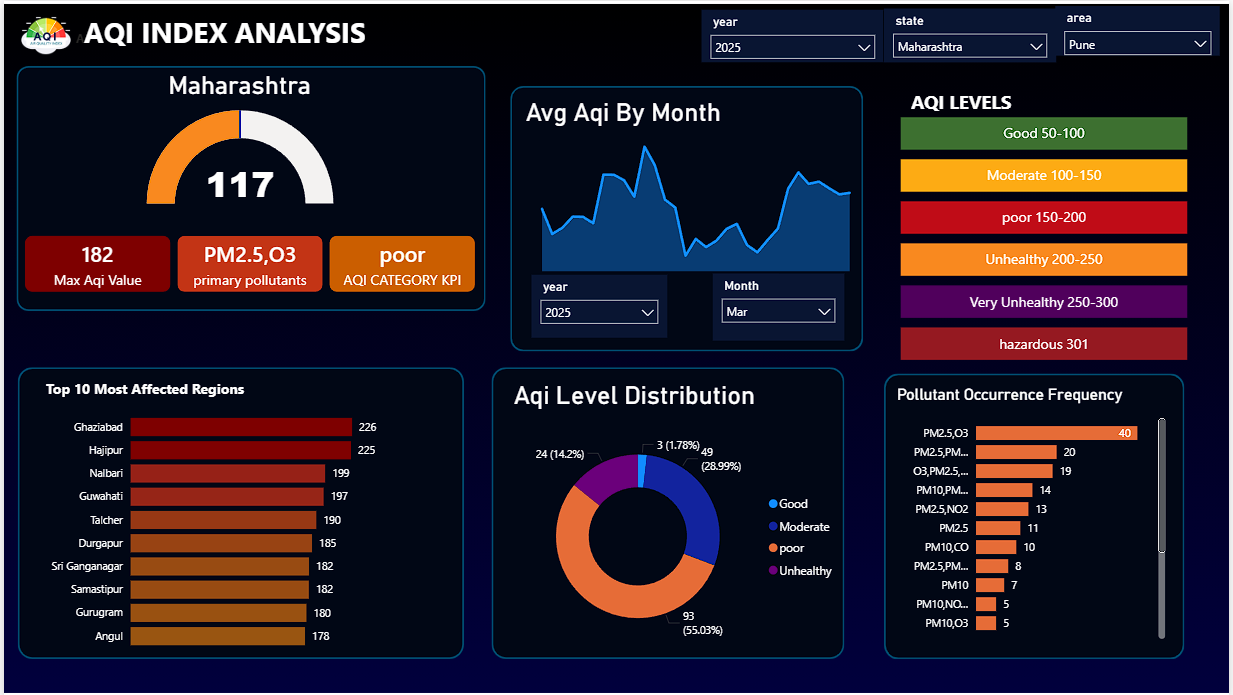

Layout of this report page (visuals, bound fields, positions):
{"tool":"powerbi","page":{"name":"AQI INDEX ANALYSIS","canvas":[1400,800],"ordinal":0},"visuals":[{"type":"textbox","box":[77.7,8.5,423.1,61.5],"z":0},{"type":"shape","box":[13.8,73.8,536.2,280],"z":1000},{"type":"image","box":[0,16.7,96.7,45],"z":2000},{"type":"gauge","fields":{"Y":["day_wise_aqi_data.avg aqi"],"TargetValue":["day_wise_aqi_data.avg aqi"]},"box":[120,120,300,116.7],"z":3000},{"type":"slicer","fields":{"Values":["calender.year"]},"box":[796.7,10,208.3,60],"z":4000},{"type":"slicer","fields":{"Values":["day_wise_aqi_data.state"]},"box":[1005,8.3,196.7,61.7],"z":5000},{"type":"slicer","fields":{"Values":["day_wise_aqi_data.area"]},"box":[1201.7,5,188.3,56.7],"z":6000},{"type":"cardVisual","fields":{"Data":["Max(day_wise_aqi_data.aqi_value)","day_wise_aqi_data.primary pollutants","day_wise_aqi_data.AQI CATEGORY KPI"]},"box":[6.7,251.7,550,98.3],"z":7000},{"type":"card","fields":{"Values":["day_wise_aqi_data.state kpi"]},"box":[73.3,70,393.3,50],"z":8000},{"type":"barChart","fields":{"Y":["day_wise_aqi_data.label"],"Category":["day_wise_aqi_data.Aqi Cat"]},"box":[1020,120,353.3,296.7],"z":9000},{"type":"textbox","box":[1031.7,95,196.7,46.7],"z":10000},{"type":"shape","box":[578.3,96.7,403.3,303.3],"z":11000},{"type":"areaChart","fields":{"Category":["calender.Date.Variation.Date Hierarchy.Day"],"Y":["day_wise_aqi_data.avg aqi"]},"box":[600,125,381.7,188.3],"z":12000},{"type":"slicer","fields":{"Values":["calender.year"]},"box":[603.3,313.3,155,71.7],"z":13000},{"type":"slicer","fields":{"Values":["calender.month"]},"box":[810,311.7,150,76.7],"z":14000},{"type":"card","fields":{"Values":["day_wise_aqi_data.Aqi"]},"box":[556.7,103.3,301.7,45],"z":15000},{"type":"shape","box":[15,418.3,510,333.3],"z":16000},{"type":"barChart","title":"Top 10 Most Affected Regions","fields":{"Category":["day_wise_aqi_data.area"],"Y":["day_wise_aqi_data.avg aqi"]},"box":[42.2,431.1,456.7,321.1],"z":17000},{"type":"shape","box":[556.7,418.3,403.3,333.3],"z":18000},{"type":"donutChart","fields":{"Category":["day_wise_aqi_data.Aqi Cat"],"Y":["day_wise_aqi_data.count of rows"]},"box":[571.7,463.3,388.3,298.3],"z":19000},{"type":"card","fields":{"Values":["day_wise_aqi_data.level"]},"box":[571.7,425,298.3,46.7],"z":20000},{"type":"shape","box":[1005,425,343.3,326.7],"z":21000},{"type":"clusteredBarChart","fields":{"Category":["day_wise_aqi_data.prominent_pollutants"],"Y":["day_wise_aqi_data.count of rows"]},"box":[1020,463.8,312.5,270],"z":22000},{"type":"card","fields":{"Values":["day_wise_aqi_data.pollutant"]},"box":[953.3,425,393.3,50],"z":23000}]}

Visuals, with their boxes in screenshot pixels (x1, y1, x2, y2), scaled from the page's 1400x800 canvas onto the 1233x695 screenshot:
textbox: region(68, 7, 441, 61)
shape: region(12, 64, 484, 307)
image: region(0, 15, 85, 54)
gauge - day_wise_aqi_data.avg aqi x day_wise_aqi_data.avg aqi: region(106, 104, 370, 206)
slicer - calender.year: region(702, 9, 885, 61)
slicer - day_wise_aqi_data.state: region(885, 7, 1058, 61)
slicer - day_wise_aqi_data.area: region(1058, 4, 1224, 54)
cardVisual - Max(day_wise_aqi_data.aqi_value) x day_wise_aqi_data.primary pollutants: region(6, 219, 490, 304)
card - day_wise_aqi_data.state kpi: region(65, 61, 411, 104)
barChart - day_wise_aqi_data.label x day_wise_aqi_data.Aqi Cat: region(898, 104, 1209, 362)
textbox: region(909, 83, 1082, 123)
shape: region(509, 84, 865, 348)
areaChart - calender.Date.Variation.Date Hierarchy.Day x day_wise_aqi_data.avg aqi: region(528, 109, 865, 272)
slicer - calender.year: region(531, 272, 668, 334)
slicer - calender.month: region(713, 271, 845, 337)
card - day_wise_aqi_data.Aqi: region(490, 90, 756, 129)
shape: region(13, 363, 462, 653)
"Top 10 Most Affected Regions" barChart: region(37, 375, 439, 653)
shape: region(490, 363, 845, 653)
donutChart - day_wise_aqi_data.Aqi Cat x day_wise_aqi_data.count of rows: region(504, 402, 845, 662)
card - day_wise_aqi_data.level: region(504, 369, 766, 410)
shape: region(885, 369, 1187, 653)
clusteredBarChart - day_wise_aqi_data.prominent_pollutants x day_wise_aqi_data.count of rows: region(898, 403, 1174, 637)
card - day_wise_aqi_data.pollutant: region(840, 369, 1186, 413)
